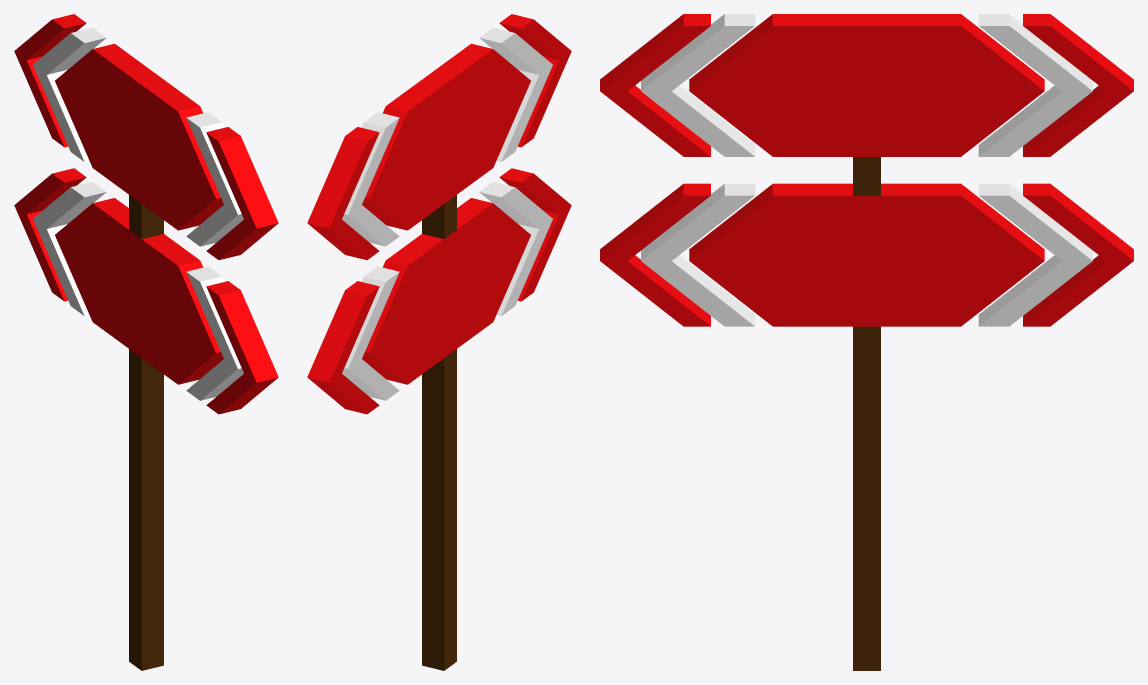
The model's file is Middle.fbx.
The picture shows the model from 3 angles, left to right: view 1: azimuth 30°, elevation 25°; view 2: azimuth 150°, elevation 25°; view 3: azimuth 270°, elevation 25°; orthographic projection. The views are drawn at different scales.
Parts seen in each view (by area): view 1: Cube.001; view 2: Cube.001; view 3: Cube.001.
Part boxes in pixels (box(x1,y1,x2,y2)): Cube.001: box(14, 14, 278, 670); Cube.001: box(307, 14, 571, 670); Cube.001: box(600, 14, 1133, 670).
Bounding box in the file's own units: 51.22 × 1296 × 972.
